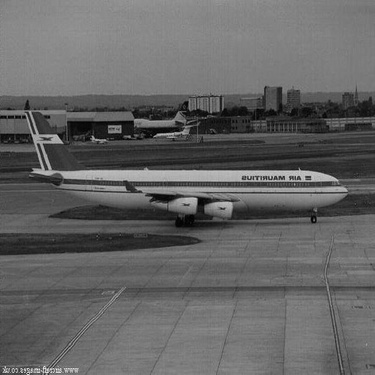airplane: (16, 92, 360, 242), (104, 91, 197, 138), (147, 113, 199, 150)
